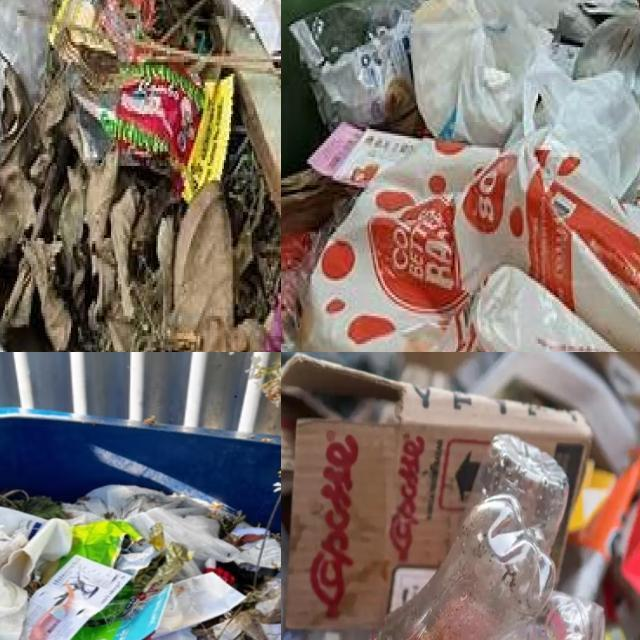Garbage: (281, 0, 640, 352), (281, 352, 640, 640), (0, 484, 281, 640)
Plastic_Bag: (281, 0, 640, 352), (65, 484, 240, 564), (154, 574, 245, 636)
Plastic_bottle: (369, 493, 556, 640), (467, 435, 569, 554)
Plastic_wraper: (49, 0, 234, 201), (90, 542, 191, 625), (72, 585, 171, 640), (58, 520, 141, 568)
contaminated_waste: (79, 63, 239, 195), (44, 0, 225, 81)
